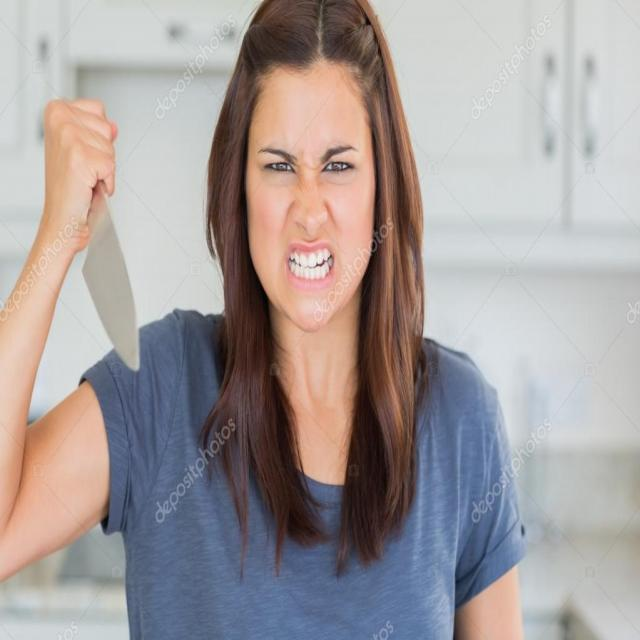knife: (86, 167, 152, 387)
